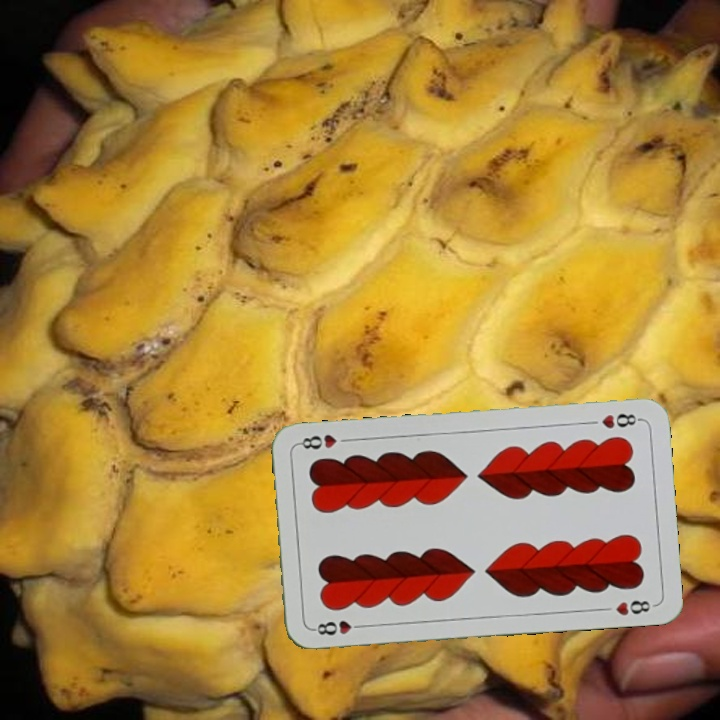H8: (309, 616, 368, 638), (597, 409, 643, 432)
